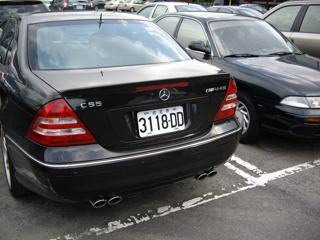plate: (137, 110, 187, 136)
